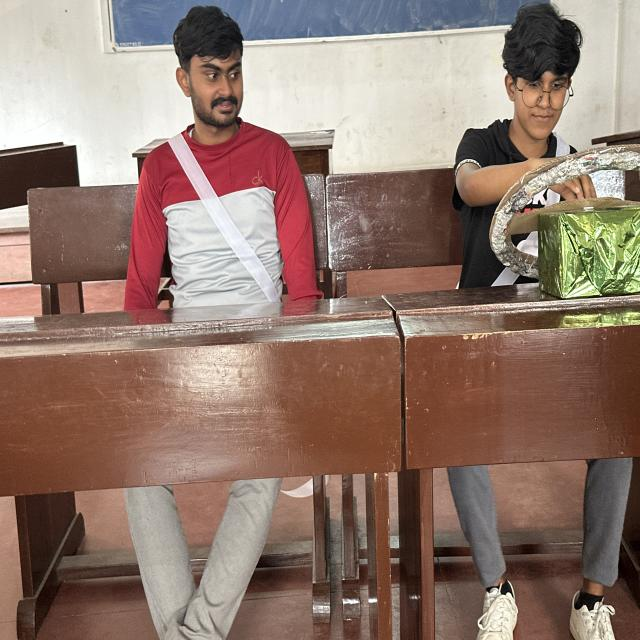seatbelt: (142, 134, 293, 306), (459, 128, 579, 290)
